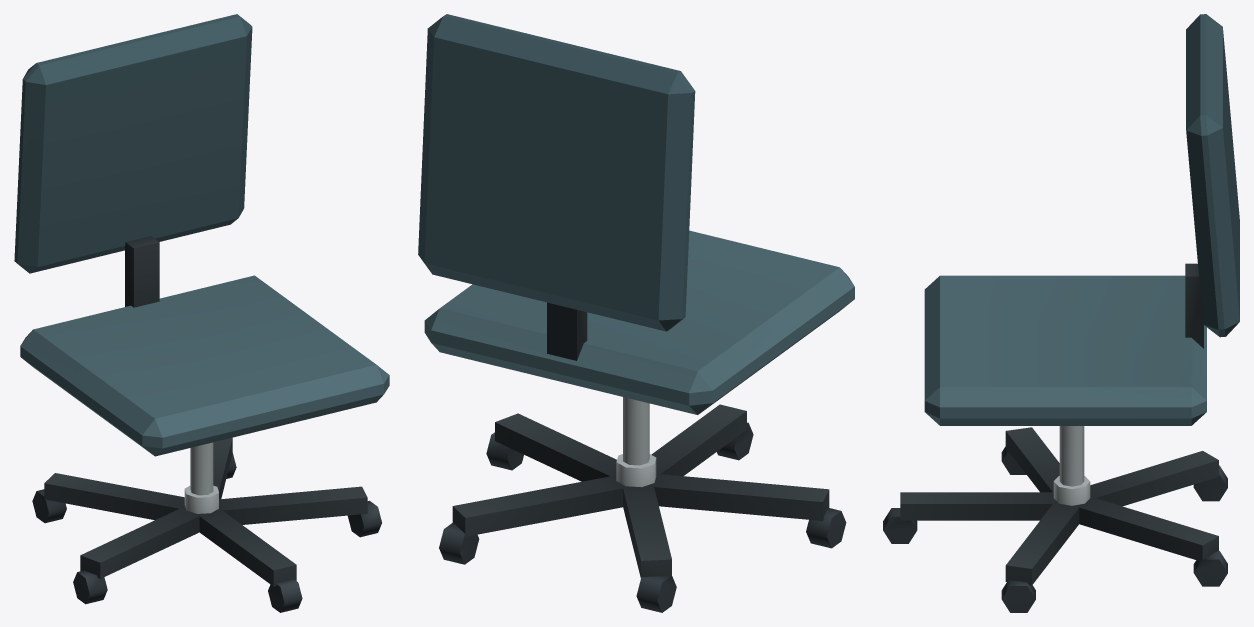
Rendered from office_chair.glb.
3 views of the same model, side by side, from view 1: azimuth 30°, elevation 25°; view 2: azimuth 150°, elevation 25°; view 3: azimuth 270°, elevation 25° (orthographic). The views are drawn at different scales.
Visible parts, largest first — view 1: back, seat, base, wheels, stem, lift; view 2: back, seat, base, wheels, lift, stem; view 3: seat, base, back, wheels, lift, stem.
Boxes of the visible parts, x1=… form: back: x1=14, y1=14, x2=252, y2=273; seat: x1=20, y1=275, x2=389, y2=456; base: x1=44, y1=437, x2=367, y2=586; wheels: x1=32, y1=452, x2=381, y2=612; stem: x1=125, y1=236, x2=159, y2=307; lift: x1=184, y1=442, x2=218, y2=513; back: x1=418, y1=14, x2=695, y2=331; seat: x1=424, y1=230, x2=854, y2=414; base: x1=452, y1=404, x2=829, y2=577; wheels: x1=439, y1=422, x2=846, y2=612; lift: x1=616, y1=397, x2=656, y2=487; stem: x1=547, y1=302, x2=587, y2=360; seat: x1=924, y1=275, x2=1206, y2=425; base: x1=900, y1=427, x2=1218, y2=585; back: x1=1186, y1=14, x2=1239, y2=337; wheels: x1=883, y1=446, x2=1227, y2=612; lift: x1=1053, y1=426, x2=1090, y2=505; stem: x1=1185, y1=263, x2=1203, y2=348.
Size of the model in its own units: 0.5676 by 0.854 by 0.5819.
